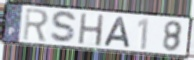1: (137, 18, 150, 51)
8: (162, 20, 184, 53)
A: (101, 16, 132, 49)
H: (77, 12, 106, 48)
R: (22, 7, 50, 43)
S: (49, 10, 80, 45)
